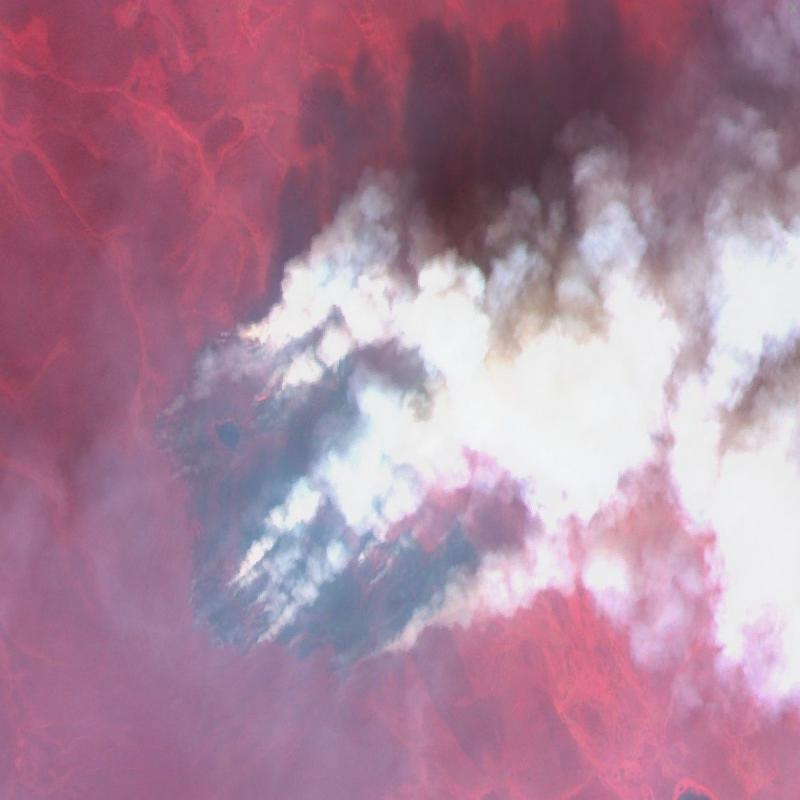fire: (142, 295, 496, 680)
